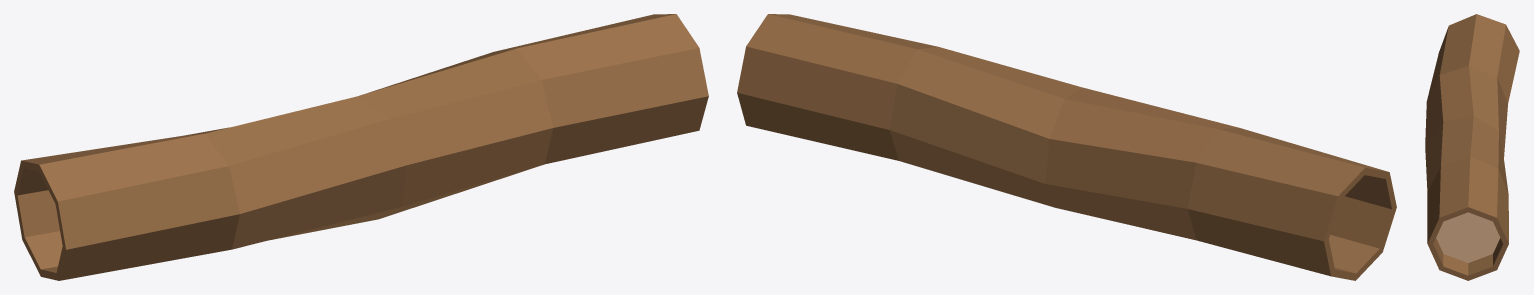
Rendered from Pine_Log_05_LOD.fbx.
3 renders of one model, left to right at view 1: azimuth 30°, elevation 25°; view 2: azimuth 150°, elevation 25°; view 3: azimuth 270°, elevation 25°, orthographic. The views are drawn at different scales.
Parts seen in each view (by area): view 1: Pine_Log_05_LOD0; view 2: Pine_Log_05_LOD0; view 3: Pine_Log_05_LOD0.
Part boxes in pixels (box(x1,y1,x2,y2)): Pine_Log_05_LOD0: box(14, 14, 708, 280); Pine_Log_05_LOD0: box(737, 14, 1396, 280); Pine_Log_05_LOD0: box(1425, 14, 1519, 280).
Size of what is drawn, in the model's own units: 222 by 42.03 by 45.51.
